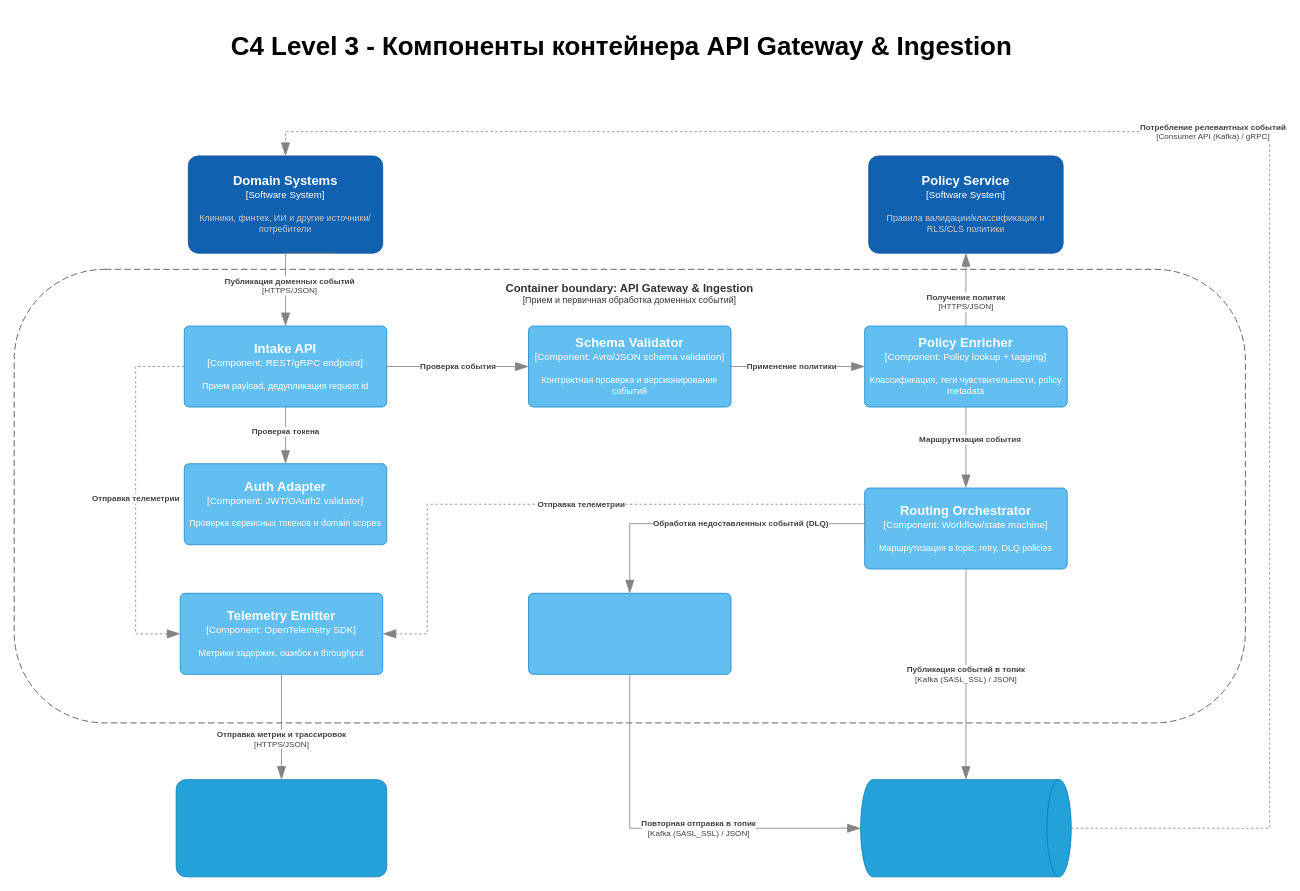
Some shapes in this 1300 by 891 pixel diagram are drawn without their labels. The box of each missing label's shape, as (x1, y1, x2, y2) in pixels:
DLQ Manager [Component: Retry/DLQ handler] Контроль неуспешных событий и replay: (528, 593, 731, 674)
Event Backbone [Container: Kafka-compatible] Центральная шина событий: (860, 779, 1071, 877)
Observability [Container: Tracing, metrics, logs] Мониторинг ingestion pipeline: (175, 779, 387, 877)
